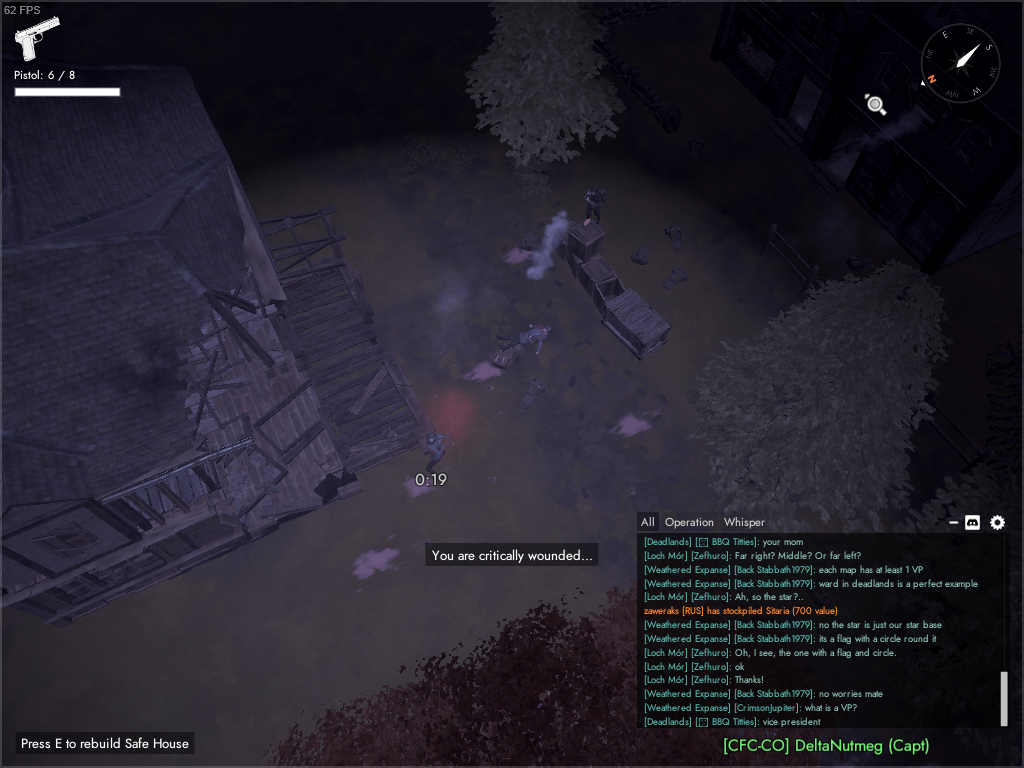backpack: (516, 374, 549, 410), (660, 222, 691, 257), (659, 263, 692, 293), (625, 240, 656, 270), (862, 252, 898, 276), (679, 135, 710, 162), (514, 226, 543, 254), (842, 248, 873, 272)
colonial: (581, 185, 612, 228)
dead_player: (494, 321, 553, 356)
player: (416, 428, 452, 476)
